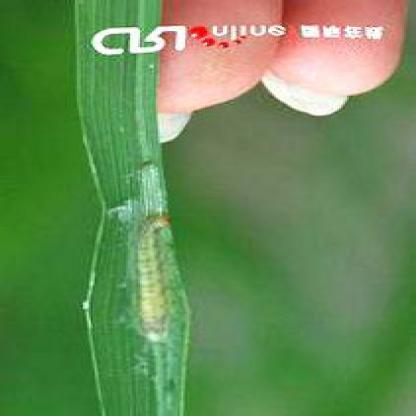leaf-folder: (104, 194, 208, 363)
